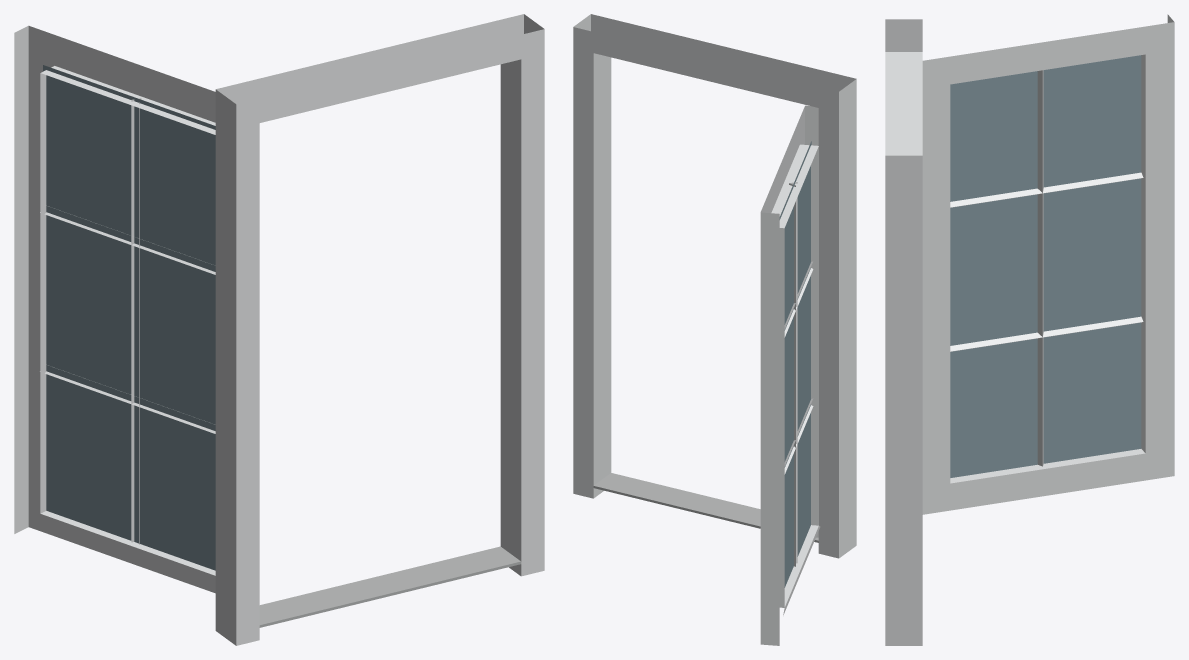
File: M_WCmen04.FBX
The picture shows the model from 3 angles, left to right: view 1: azimuth 30°, elevation 25°; view 2: azimuth 150°, elevation 25°; view 3: azimuth 270°, elevation 25°; orthographic projection. The views are drawn at different scales.
Visible parts, largest first — view 1: M_WCmen04_01, M_WCmen04_02; view 2: M_WCmen04_01, M_WCmen04_02; view 3: M_WCmen04_02, M_WCmen04_01.
Part boxes in pixels (left/top/right/bottom): M_WCmen04_01: left=14, top=14, right=544, bottom=645; M_WCmen04_02: left=43, top=65, right=215, bottom=570; M_WCmen04_01: left=573, top=14, right=856, bottom=645; M_WCmen04_02: left=779, top=141, right=811, bottom=587; M_WCmen04_02: left=950, top=55, right=1141, bottom=477; M_WCmen04_01: left=885, top=14, right=1174, bottom=645.
Bounding box in the file's own units: 2.13 × 2.94 × 1.57.
